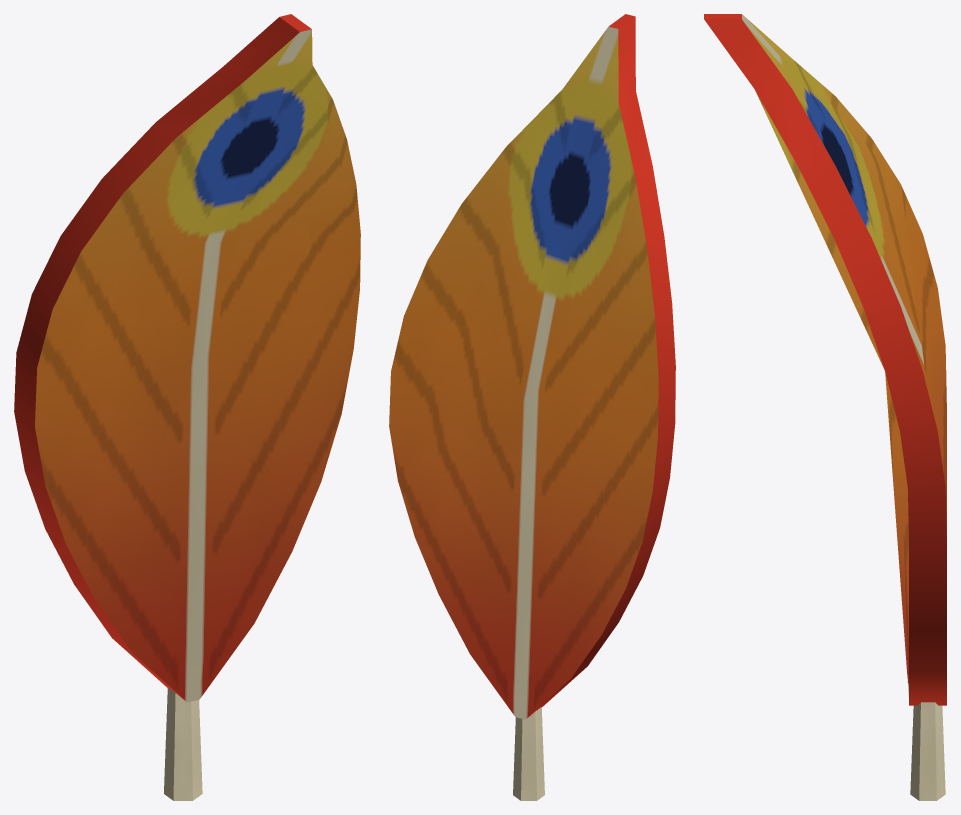
File: pickup_feather.glb
The picture shows the model from 3 angles, left to right: view 1: azimuth 30°, elevation 25°; view 2: azimuth 150°, elevation 25°; view 3: azimuth 270°, elevation 25°; orthographic projection. The views are drawn at different scales.
Visible parts, largest first — view 1: pickup_feather; view 2: pickup_feather; view 3: pickup_feather.
Boxes of the visible parts, box(x1,y1,x2,y2) form: pickup_feather: box(14, 14, 360, 800); pickup_feather: box(389, 14, 675, 800); pickup_feather: box(704, 14, 946, 800).
Size of the model in its own units: 0.2694 by 0.68 by 0.1925.
1 material, 1 textured.
